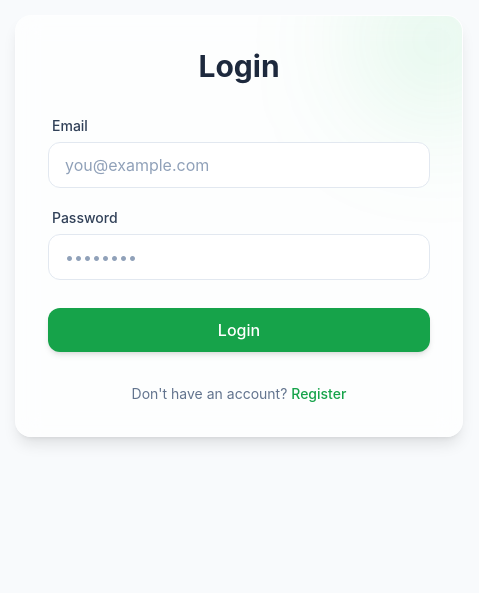
Login page › slow request (cold start) feedback › shows a loading button immediately and a cold-start hint after 4s
Type "ada@example.com" into the field with placeholder "you@example.com". click: (239,165)
box: [48,142,430,188]
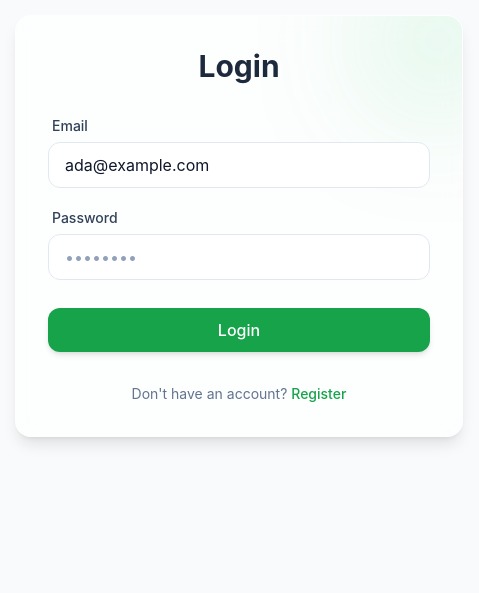
Type "secret123" into the password field with placeholder "••••••••". click: (239,257)
box: [48,234,430,280]
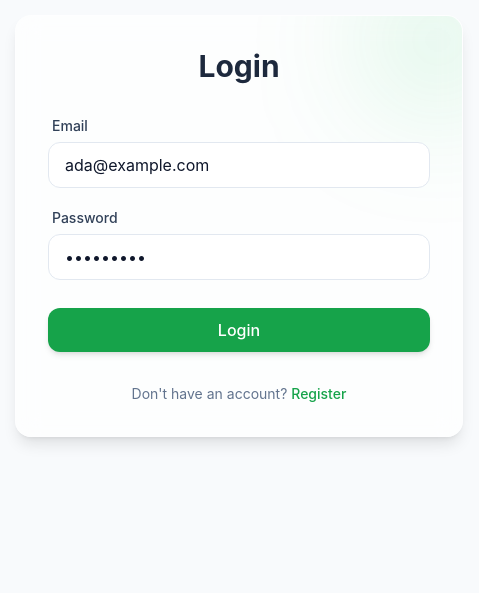
Click the button "Login". click: (239,330)
box: [48,308,430,352]
Wait 4000 ms
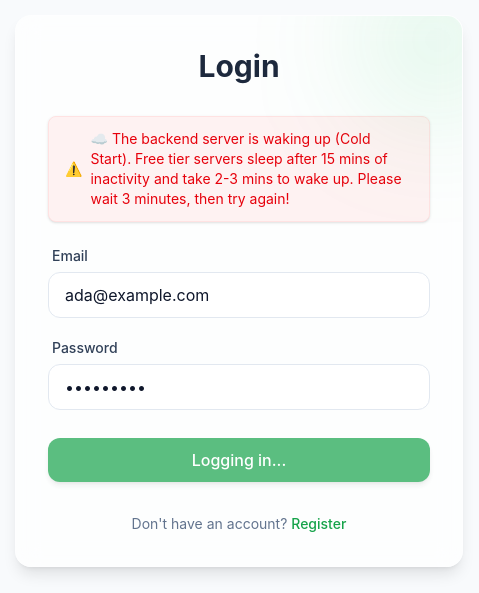
Check: the button "Logging in..." is disabled, box [48,438,430,482]
Check: the text "backend server is waking up (Cold Start)" is shown, box [90,130,402,207]
